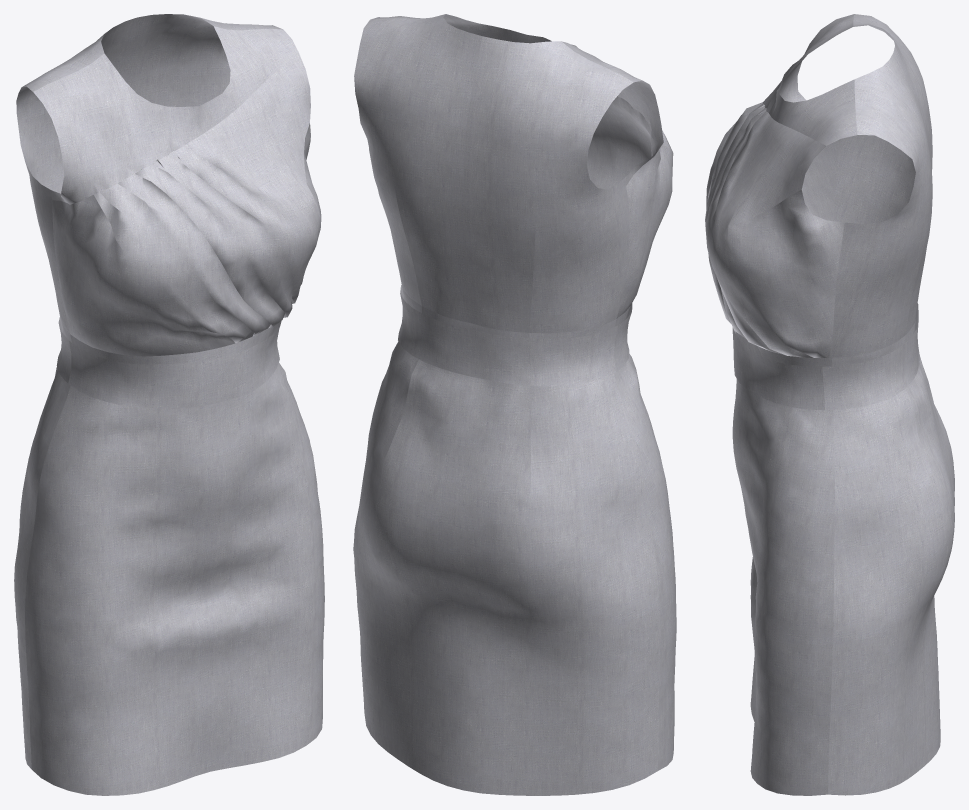
The model's file is 女褶裙.obj.
The picture shows the model from 3 angles, left to right: view 1: azimuth 30°, elevation 25°; view 2: azimuth 150°, elevation 25°; view 3: azimuth 270°, elevation 25°; orthographic projection. The views are drawn at different scales.
Size of the model in its own units: 349 by 830 by 270.
